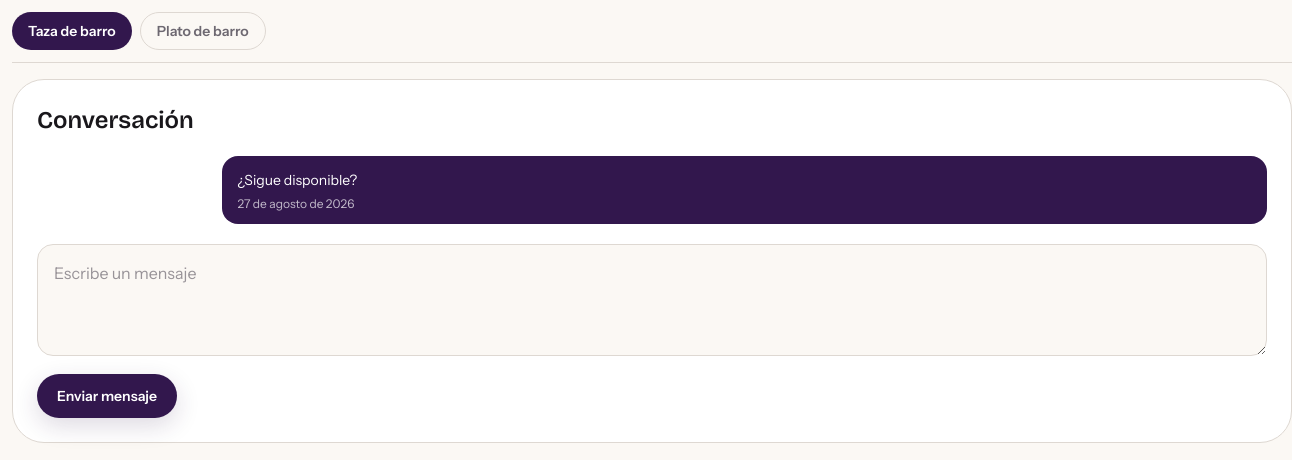
Test: CartThreads › switches to another item's thread
What coordinates should you click on to do the following:
click the tab "Plato de barro"
I would click on:
 (203, 31)
Its box is [140,12,266,50].
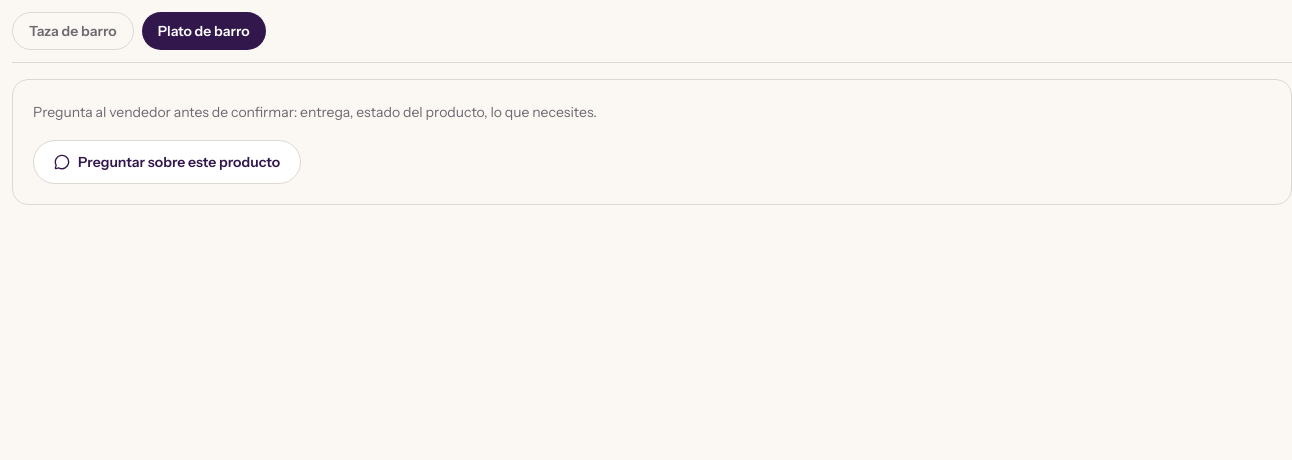
Result: the text "¿Sigue disponible?" is gone
